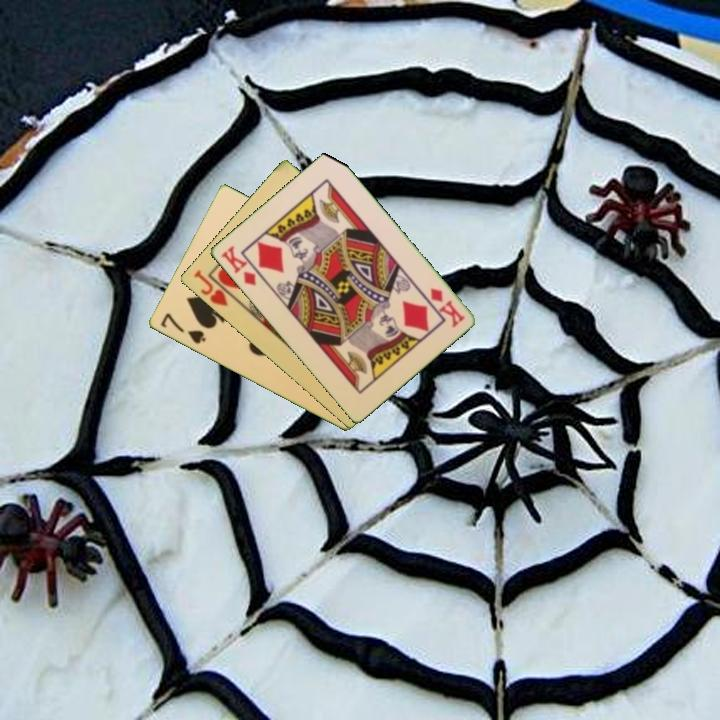7s: (157, 309, 208, 347)
Jh: (190, 266, 230, 309)
Kd: (217, 242, 259, 289), (426, 284, 467, 330)
